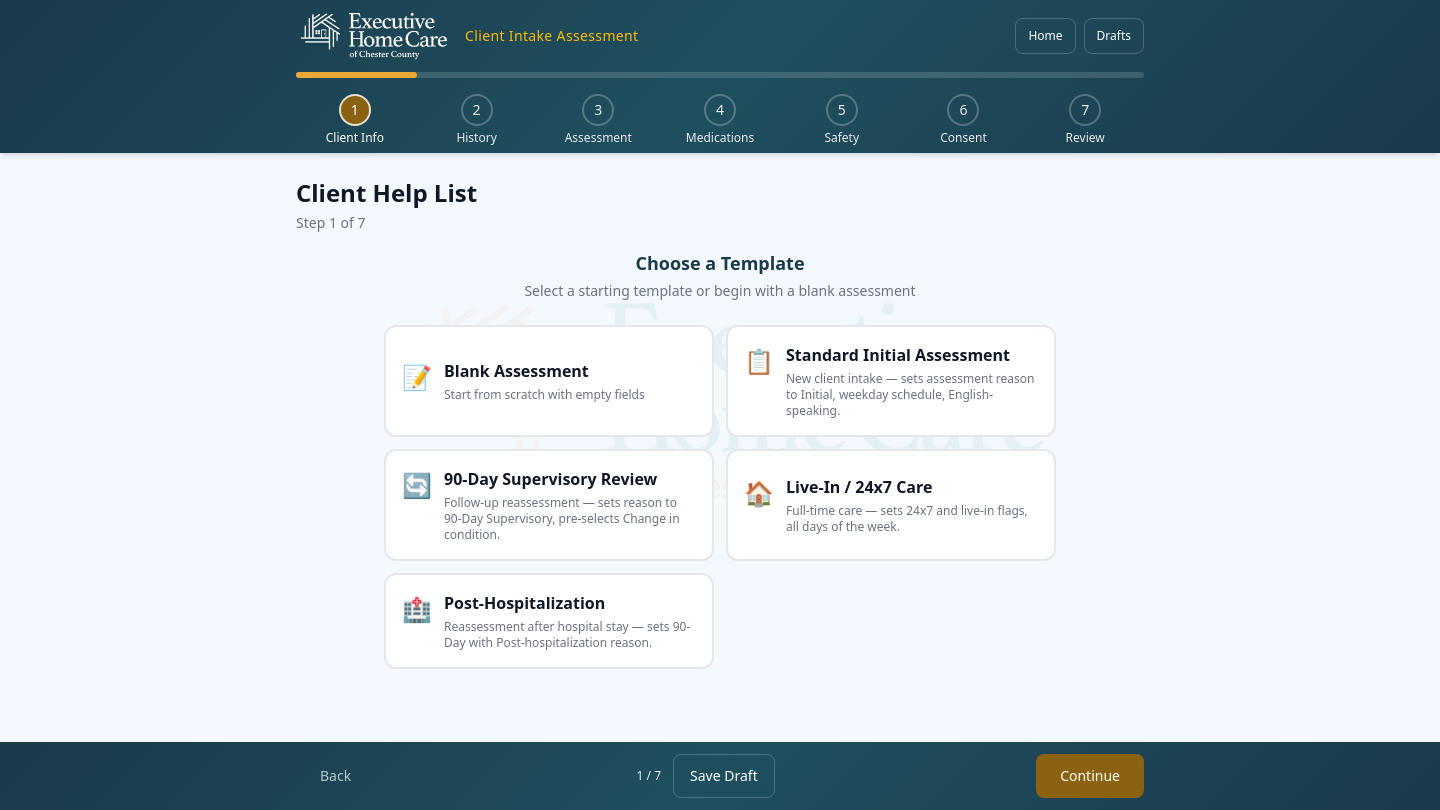
AssessmentWizard › template picker › applies template and dismisses picker when template is clicked
This screenshot has width=1440, height=810.
Click the text "Standard Initial Assessment" at x=912, y=355, box [786,343,1038,367]
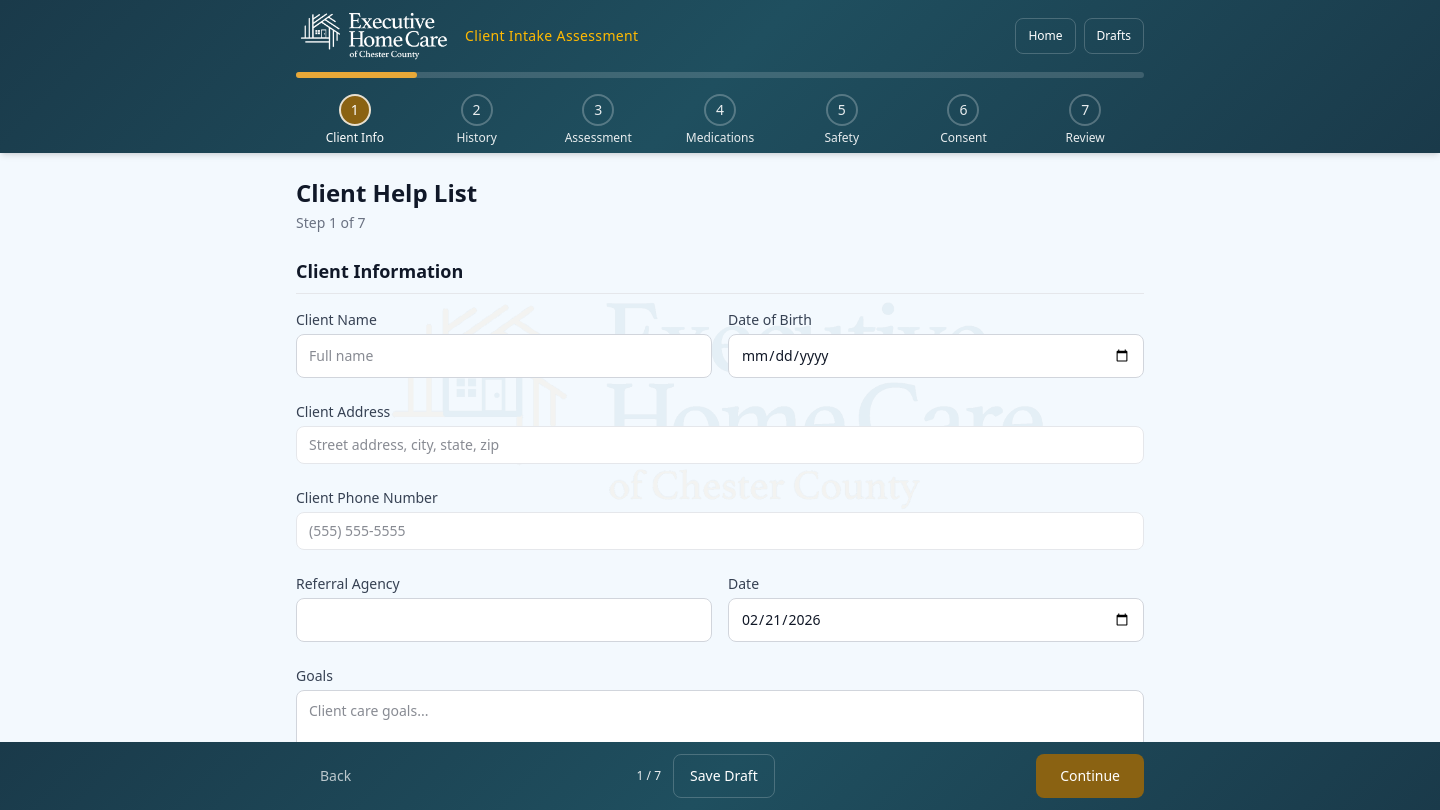
Expected: the heading "Choose a Template" is gone
